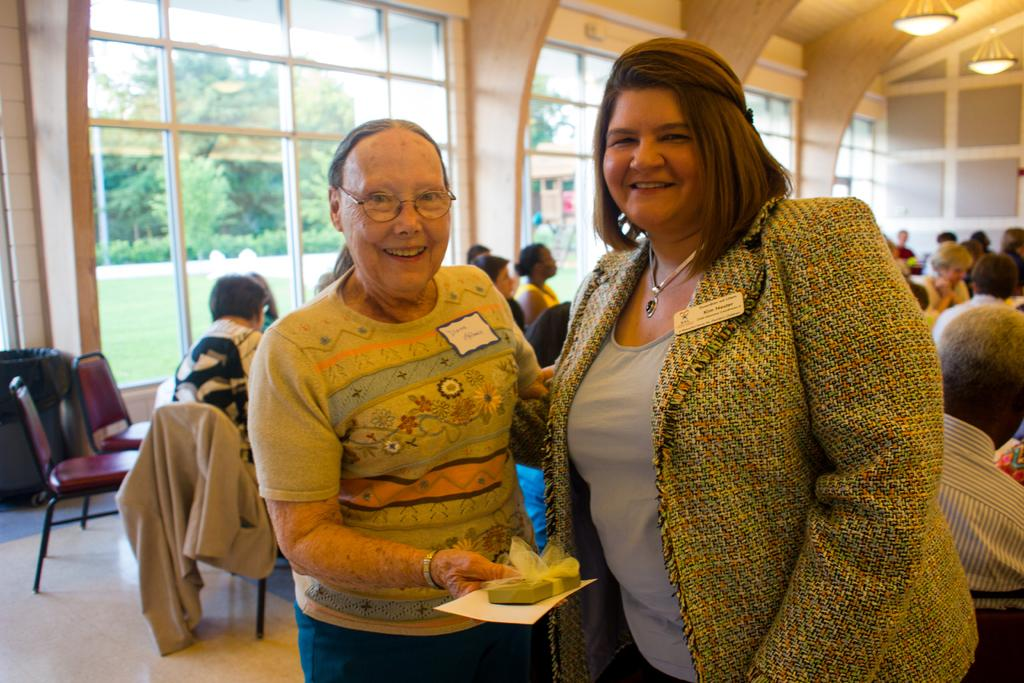Chair: (7, 374, 140, 593)
Luggage-and-bags: (0, 344, 73, 506)
